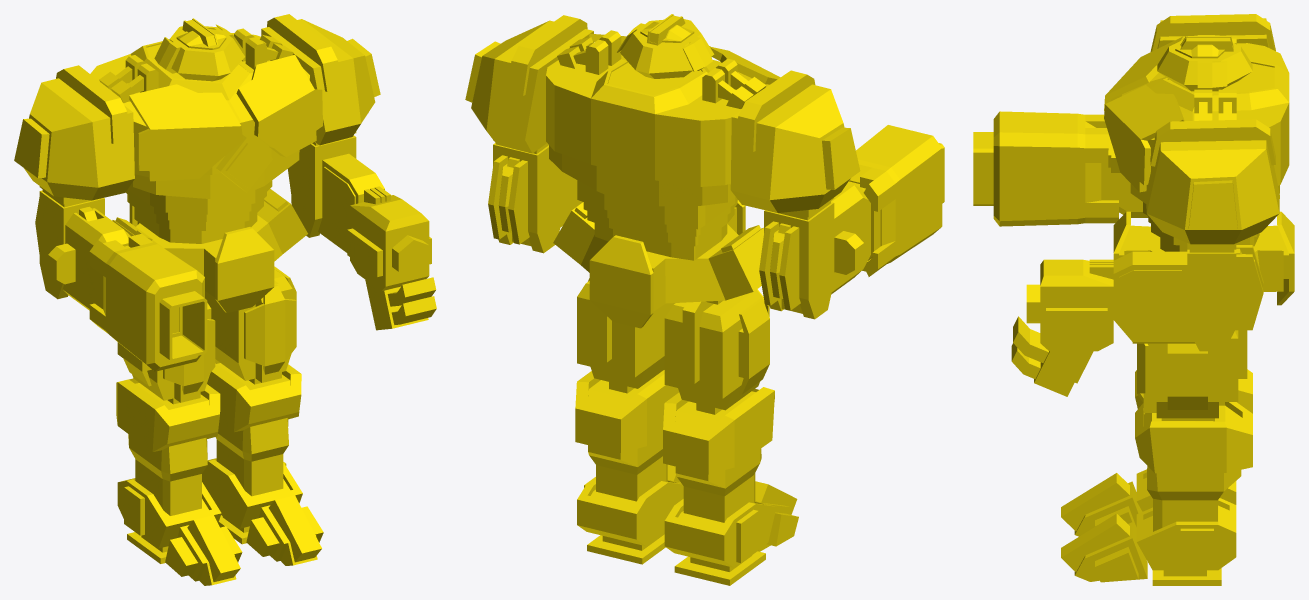
The model's file is army.fbx.
The picture shows the model from 3 angles, left to right: view 1: azimuth 30°, elevation 25°; view 2: azimuth 150°, elevation 25°; view 3: azimuth 270°, elevation 25°; orthographic projection. The views are drawn at different scales.
Visible parts, largest first — view 1: Тело; view 2: Тело; view 3: Тело.
Part boxes in pixels (x1,y1,x2,y2): Тело: (14, 14, 436, 585); Тело: (465, 14, 944, 585); Тело: (973, 14, 1294, 585).
Bounding box in the file's own units: 228 × 320 × 180.
